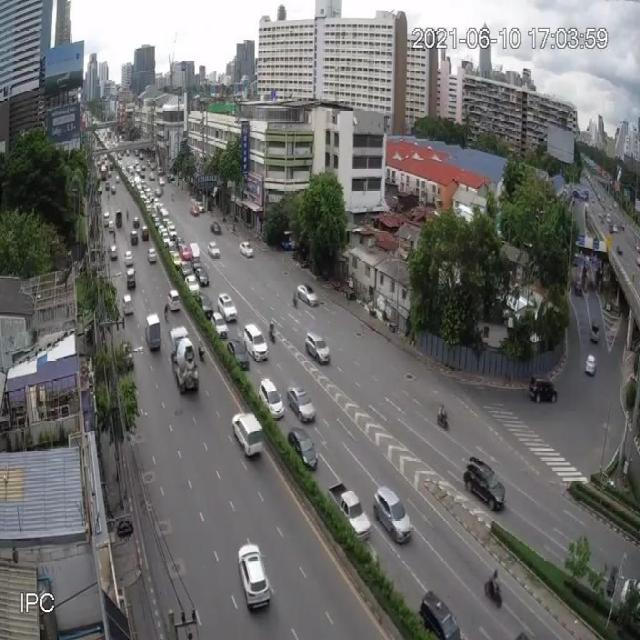Car: (237, 540, 273, 613), (328, 481, 370, 541), (463, 456, 506, 511), (373, 485, 412, 544), (419, 590, 462, 640), (232, 412, 263, 457), (287, 426, 319, 468), (287, 385, 316, 424), (259, 378, 285, 419), (244, 322, 268, 361), (528, 376, 558, 403), (306, 332, 330, 365), (226, 338, 250, 370), (145, 313, 162, 351), (217, 294, 237, 324), (620, 579, 640, 608), (296, 284, 318, 308), (210, 311, 228, 338), (198, 293, 214, 319), (193, 264, 209, 287), (167, 286, 181, 312), (606, 566, 618, 596), (186, 276, 200, 300), (122, 293, 134, 315), (239, 241, 254, 258), (584, 355, 596, 376), (189, 242, 201, 262), (180, 260, 193, 278), (126, 266, 136, 289), (208, 240, 220, 258), (180, 245, 192, 262), (147, 246, 157, 264), (590, 322, 600, 340), (172, 251, 182, 269), (281, 238, 295, 250), (124, 249, 133, 266), (210, 221, 221, 234), (110, 244, 118, 260), (130, 229, 138, 245), (575, 282, 583, 296), (108, 219, 115, 235), (141, 226, 149, 240), (190, 205, 200, 216), (103, 211, 110, 226), (132, 216, 140, 228), (155, 186, 163, 197), (598, 212, 606, 222), (198, 203, 205, 214), (606, 212, 612, 224), (616, 245, 623, 255), (158, 177, 165, 187), (608, 223, 614, 234), (167, 174, 175, 182), (585, 192, 591, 202), (111, 183, 116, 194), (612, 224, 618, 233), (149, 172, 155, 181), (115, 174, 120, 183), (106, 181, 110, 192), (620, 223, 626, 230), (637, 254, 640, 266), (612, 203, 617, 210)
Truck: (170, 326, 200, 393)
